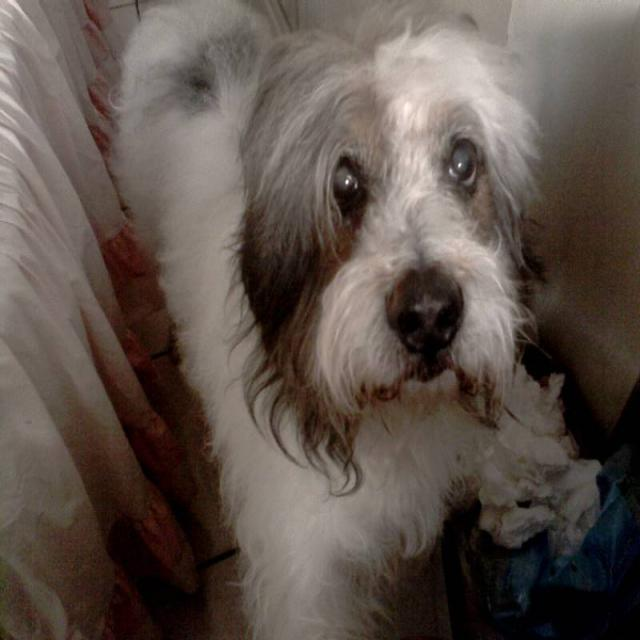eye: (326, 152, 368, 219), (444, 134, 482, 195)
